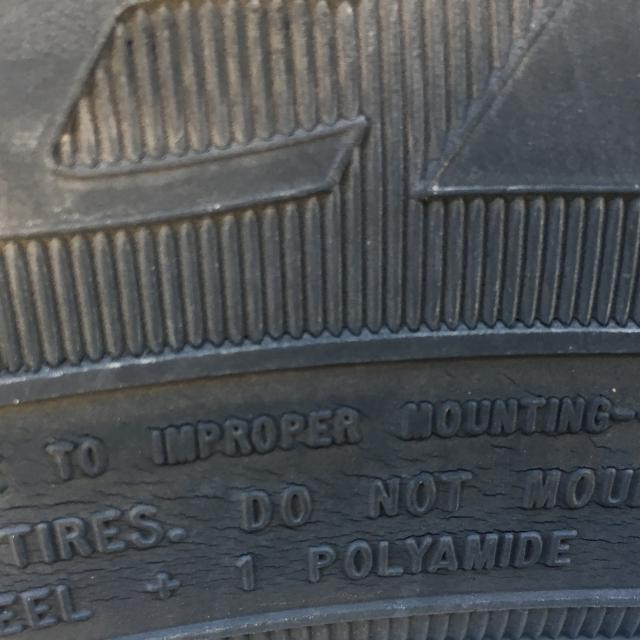Cracks: (0, 405, 640, 640)
